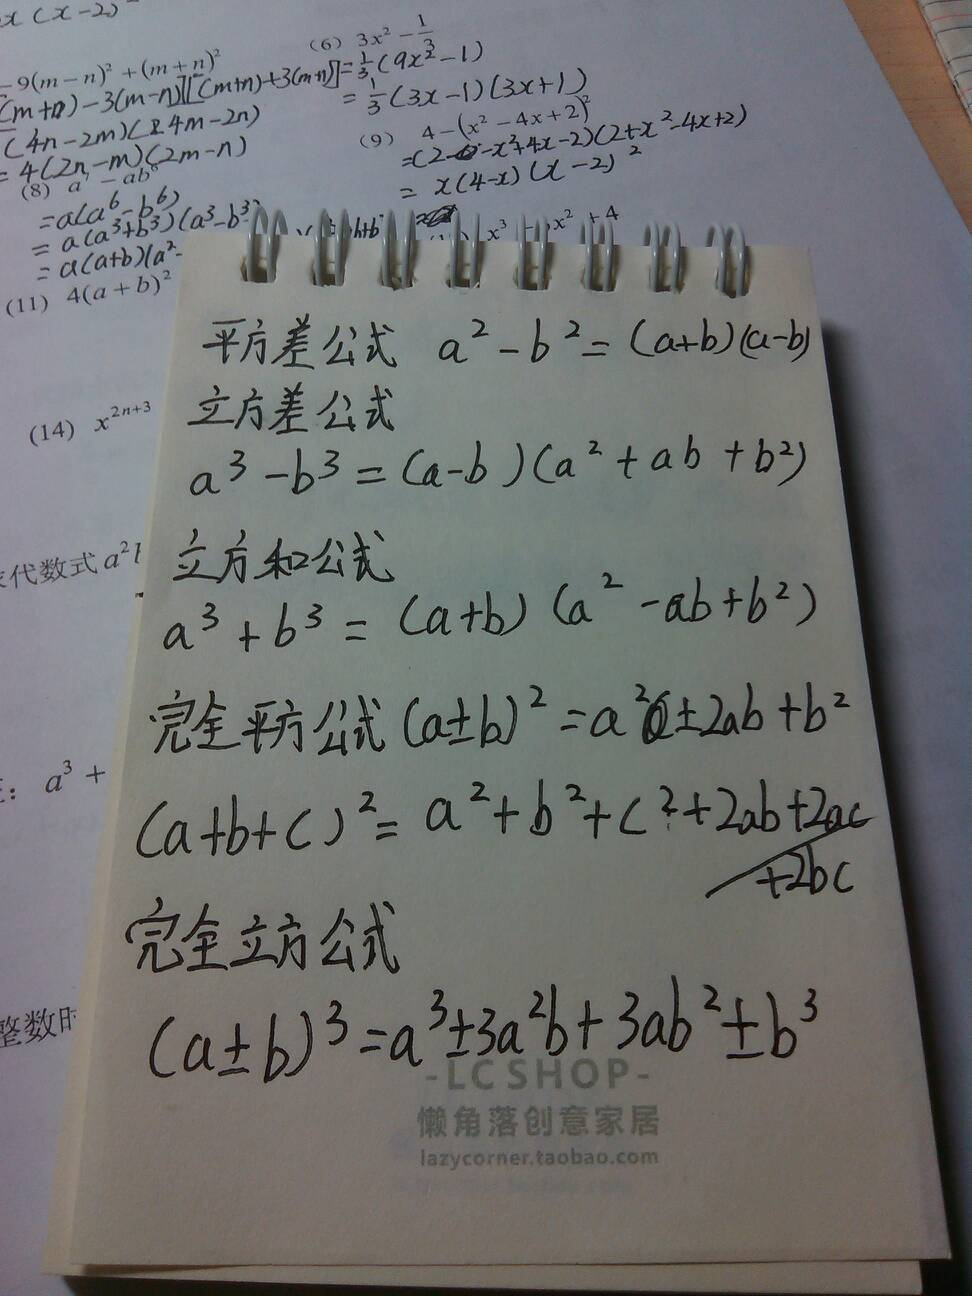cube: (323, 996, 362, 1046), (226, 435, 261, 484), (420, 985, 447, 1035), (297, 591, 328, 635), (800, 983, 822, 1031), (196, 600, 227, 633), (323, 445, 343, 491)
square: (603, 562, 624, 603), (770, 576, 792, 606)
